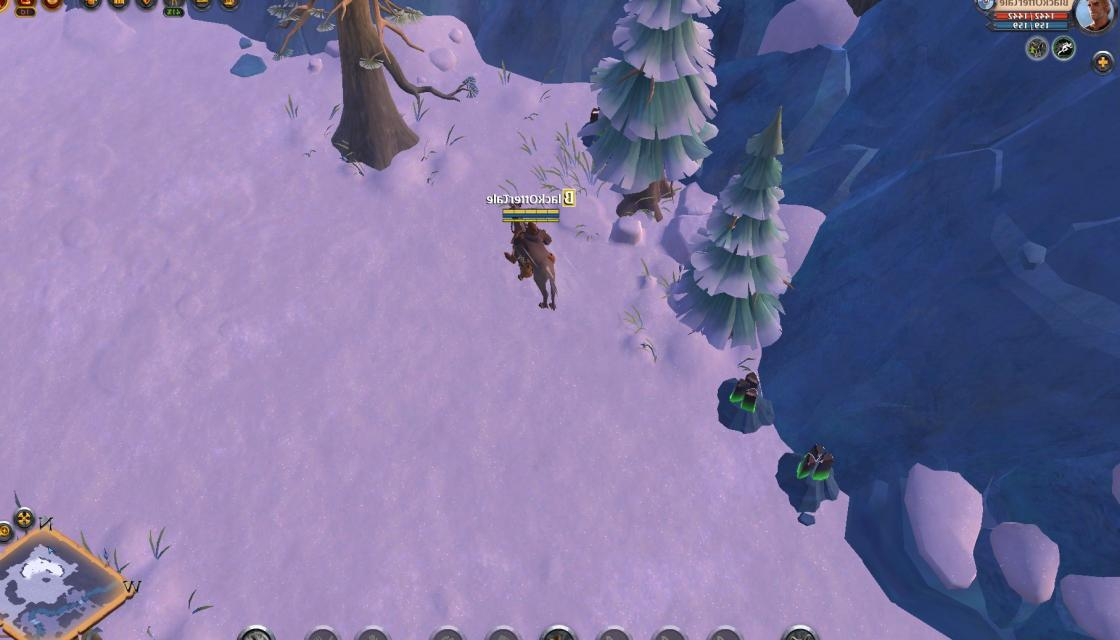tinore: (778, 442, 846, 512), (715, 369, 782, 430)
